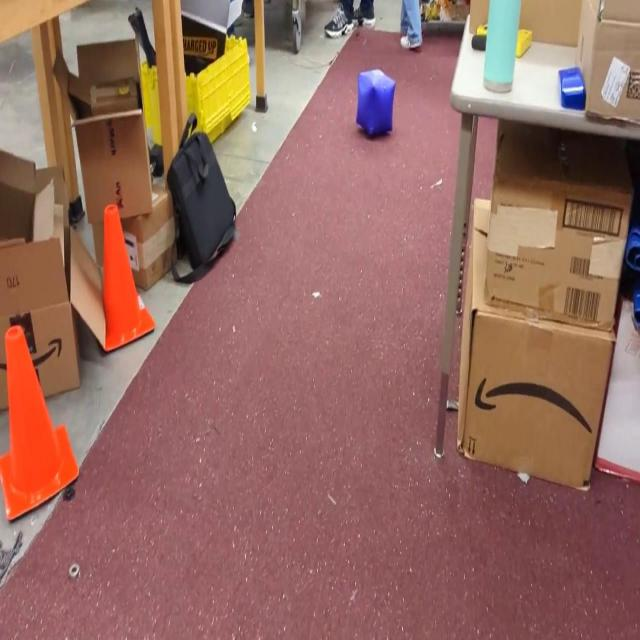frc_cube: (353, 68, 398, 140)
